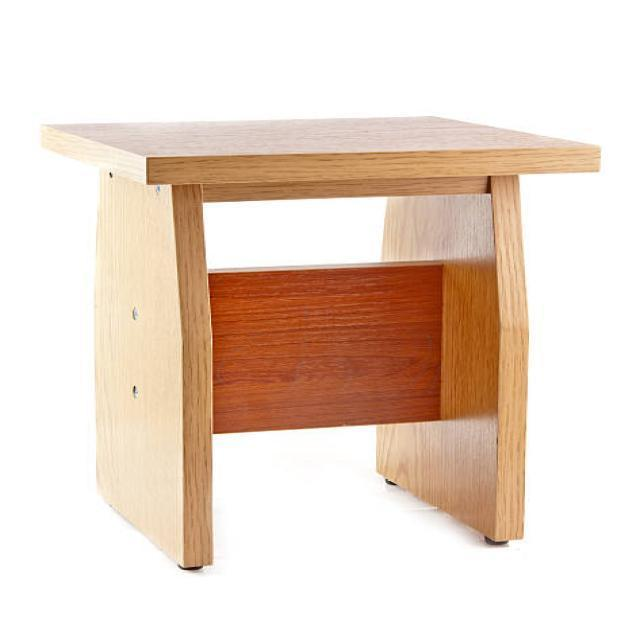table: (39, 114, 602, 569)
